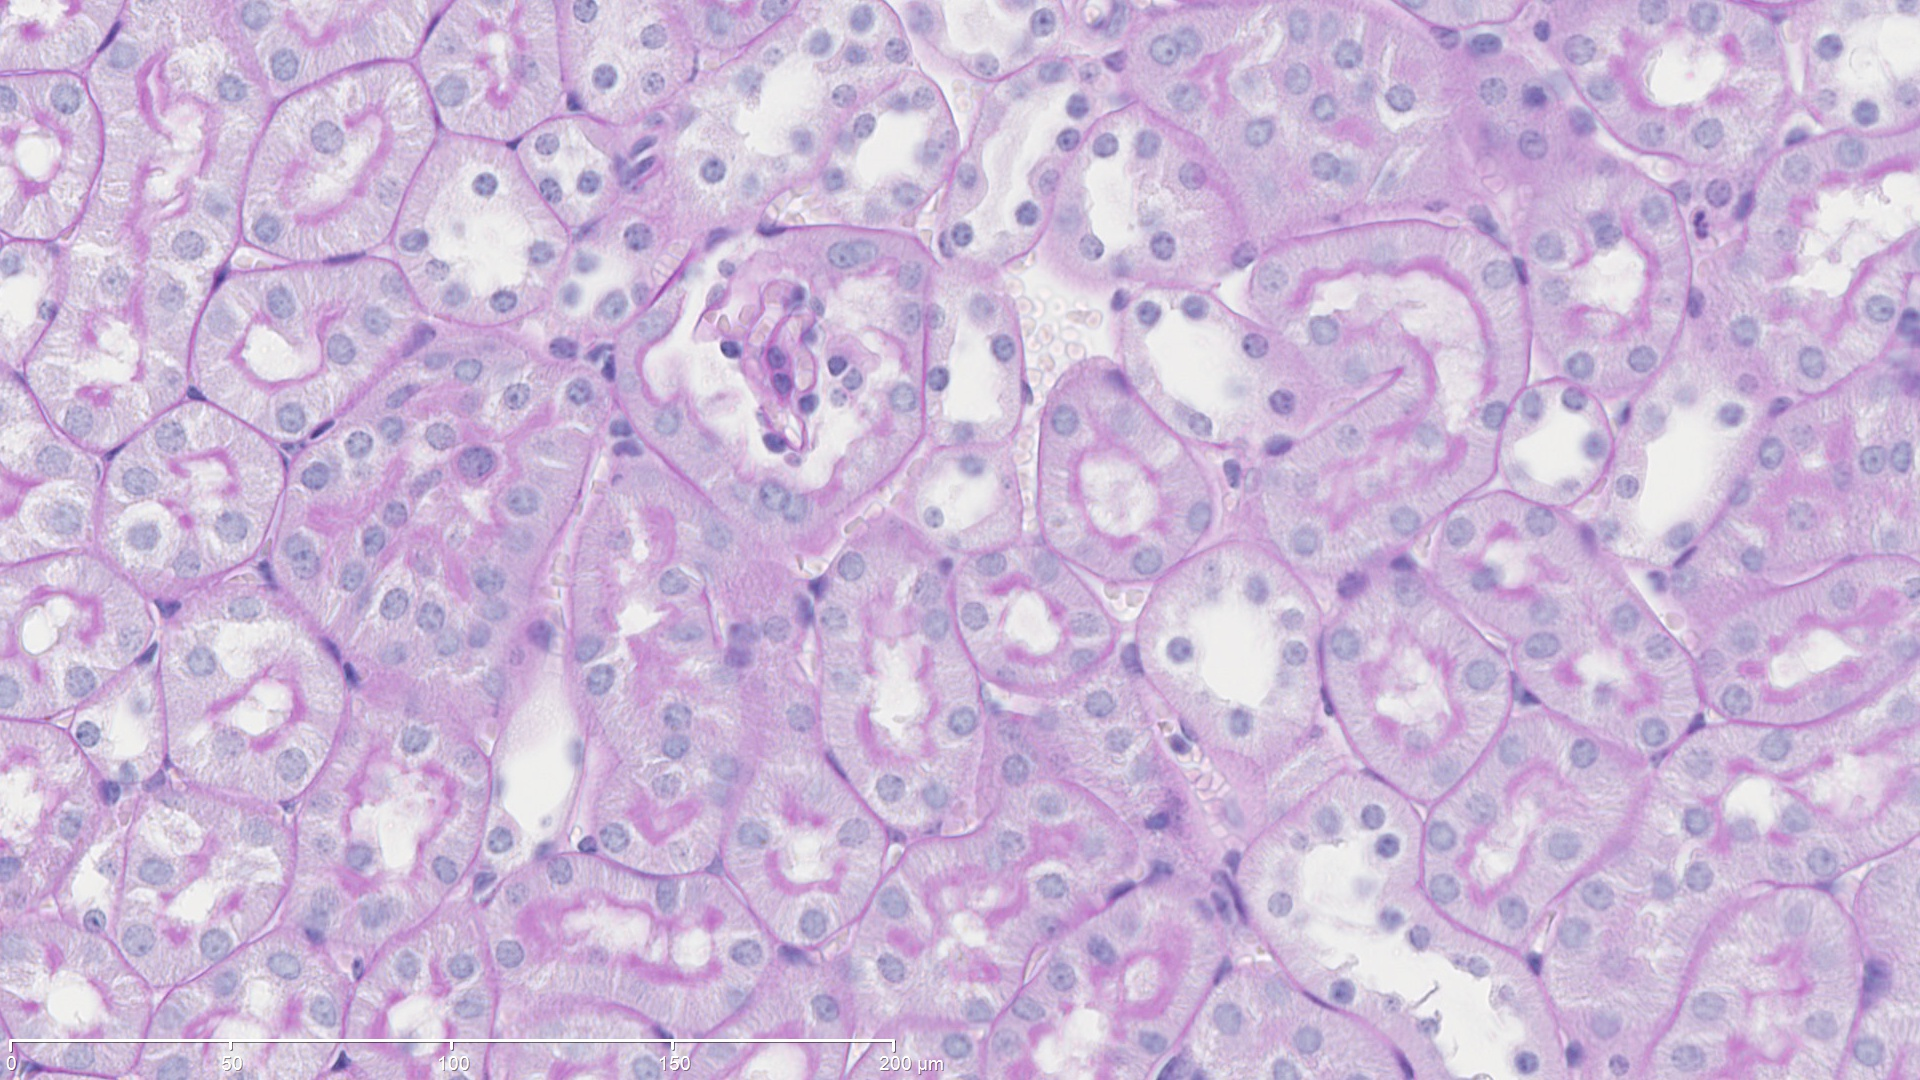Glomeruli: (696, 253, 909, 476)
